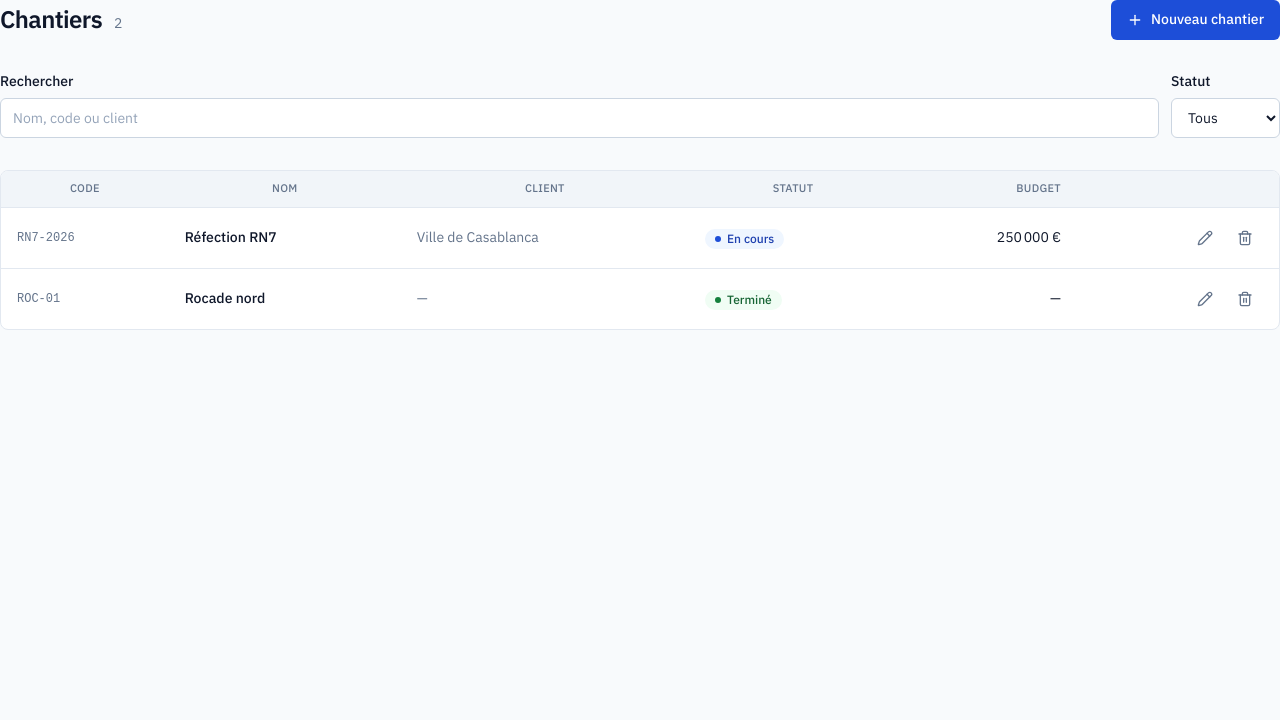
Test: WorksiteListPage › opens the edit drawer on the row, prefilled
Step 1. Click the button named "Modifier Réfection RN7" → (1205, 238), box [1187,220,1223,256]
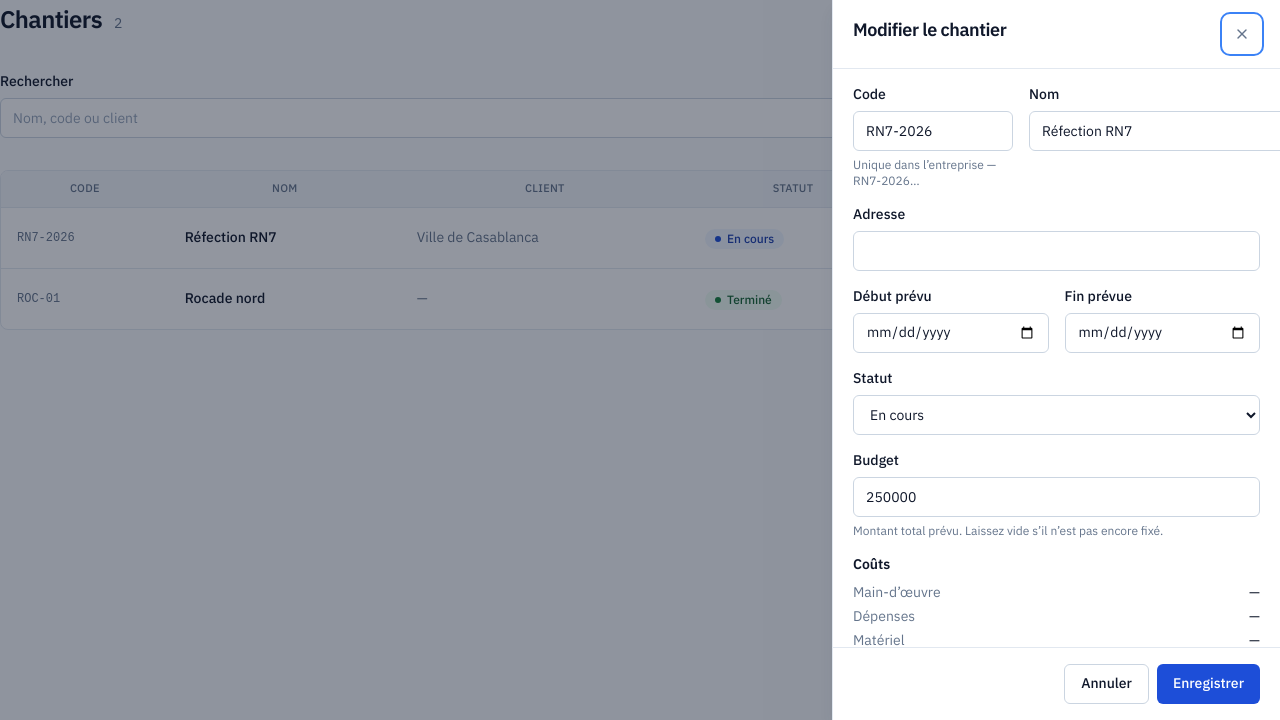
Now the heading "Modifier le chantier" is shown, box [853,16,1006,44]
Now the field labelled "Code" holds "RN7-2026", box [853,111,1013,151]
